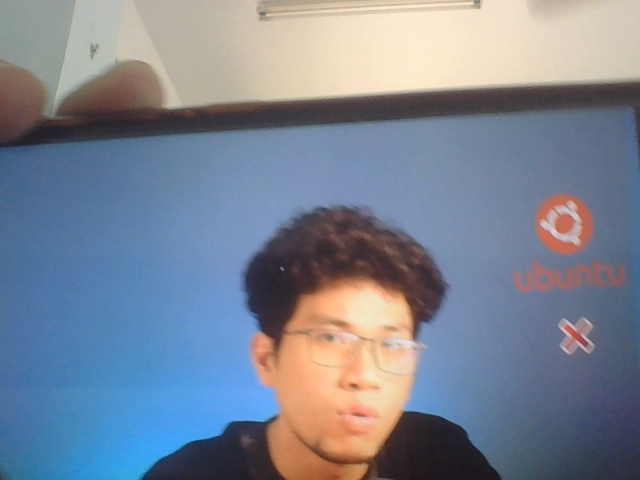fake: (252, 218, 432, 473)
